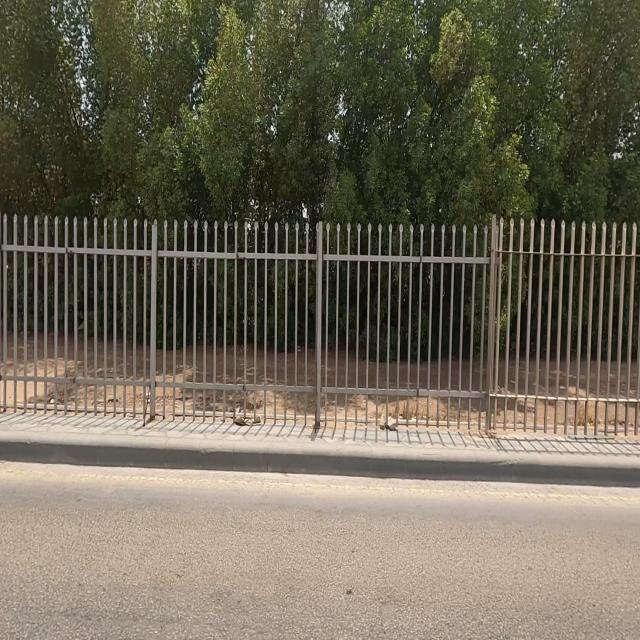debris: (204, 376, 281, 468)
